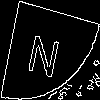N: (25, 24, 64, 79)
